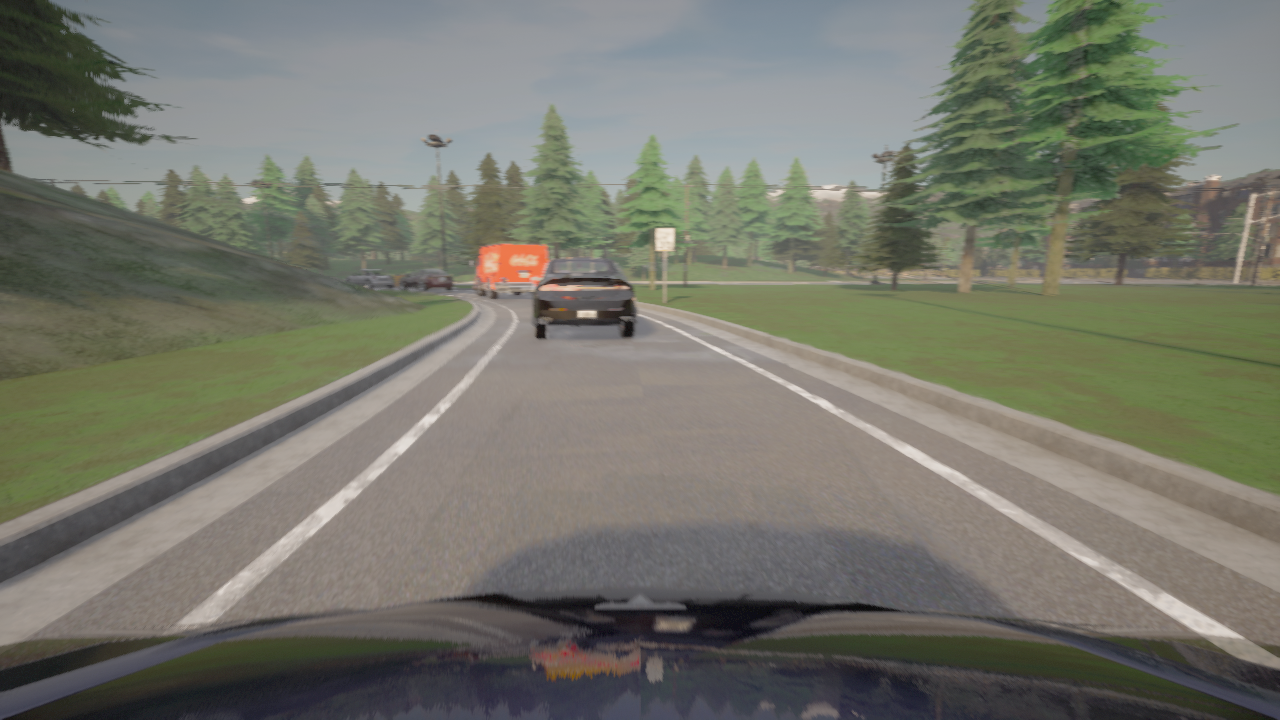cyclist: (0, 588, 1279, 719), (529, 258, 636, 339), (469, 244, 546, 299), (398, 269, 452, 291), (344, 270, 394, 289)
